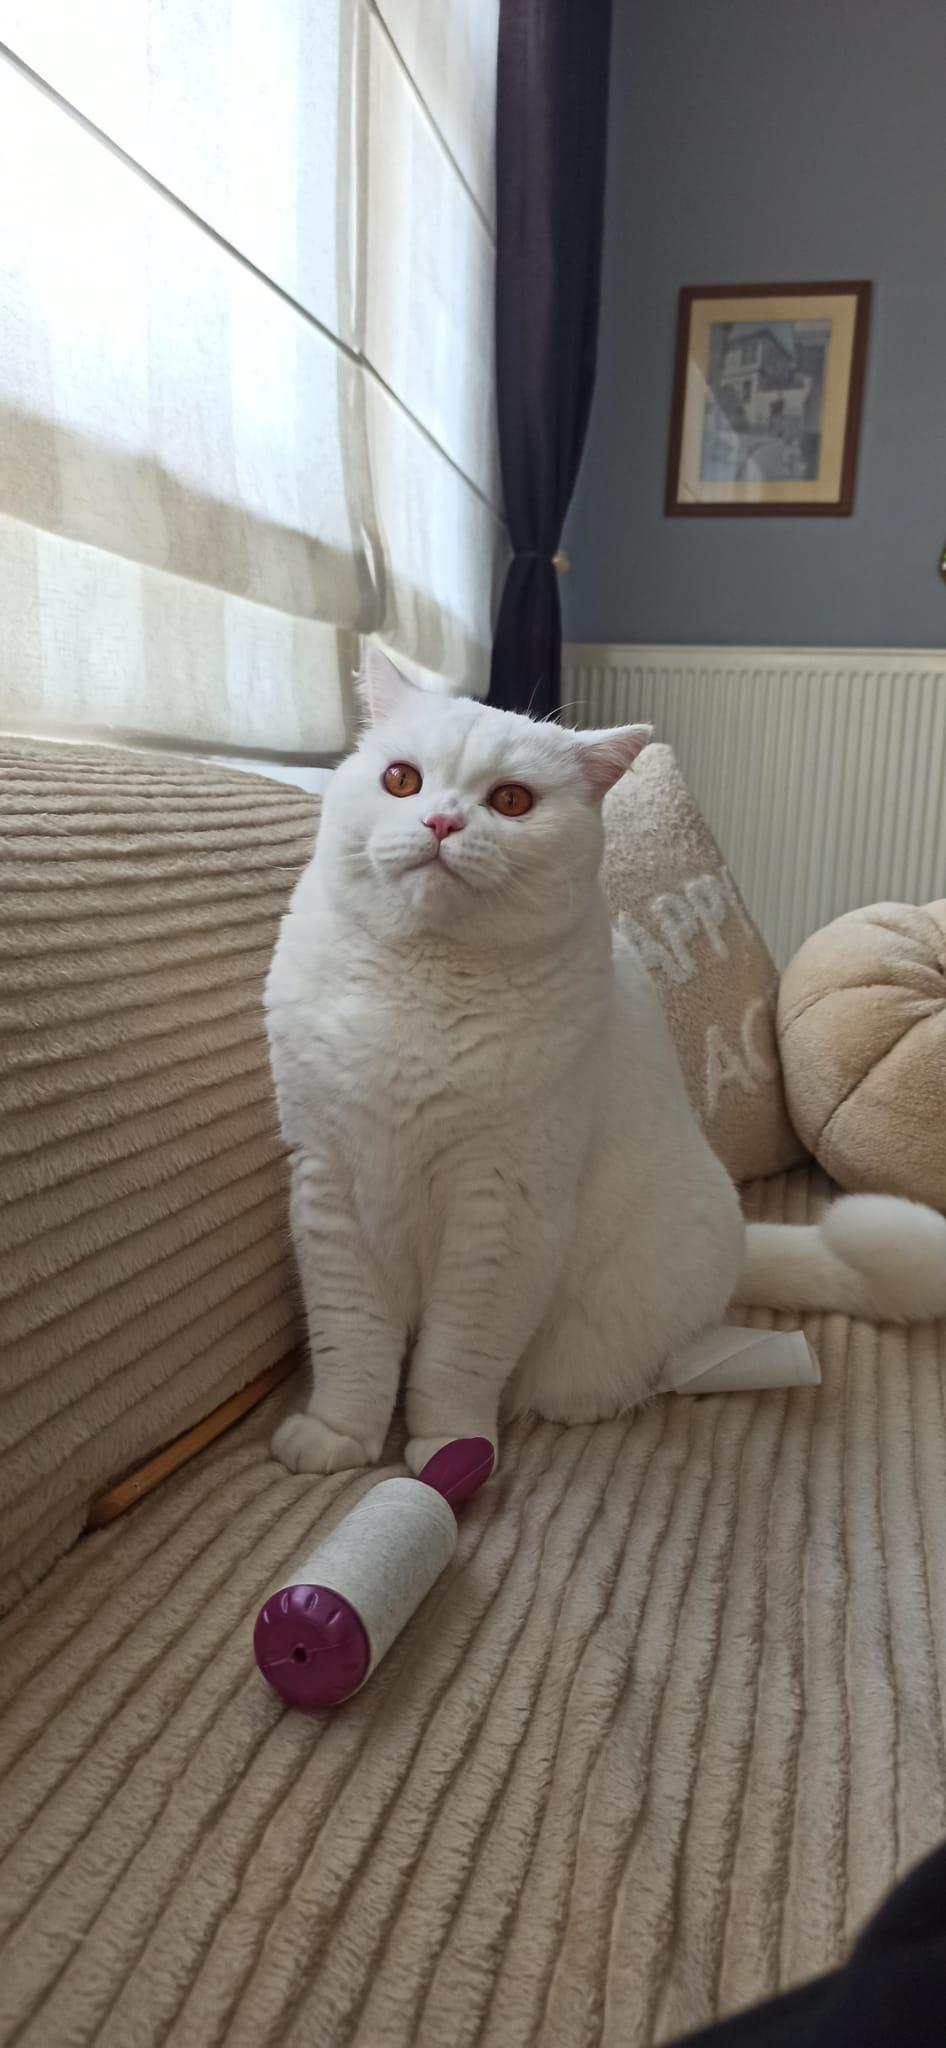kedo: (260, 639, 946, 1469)
